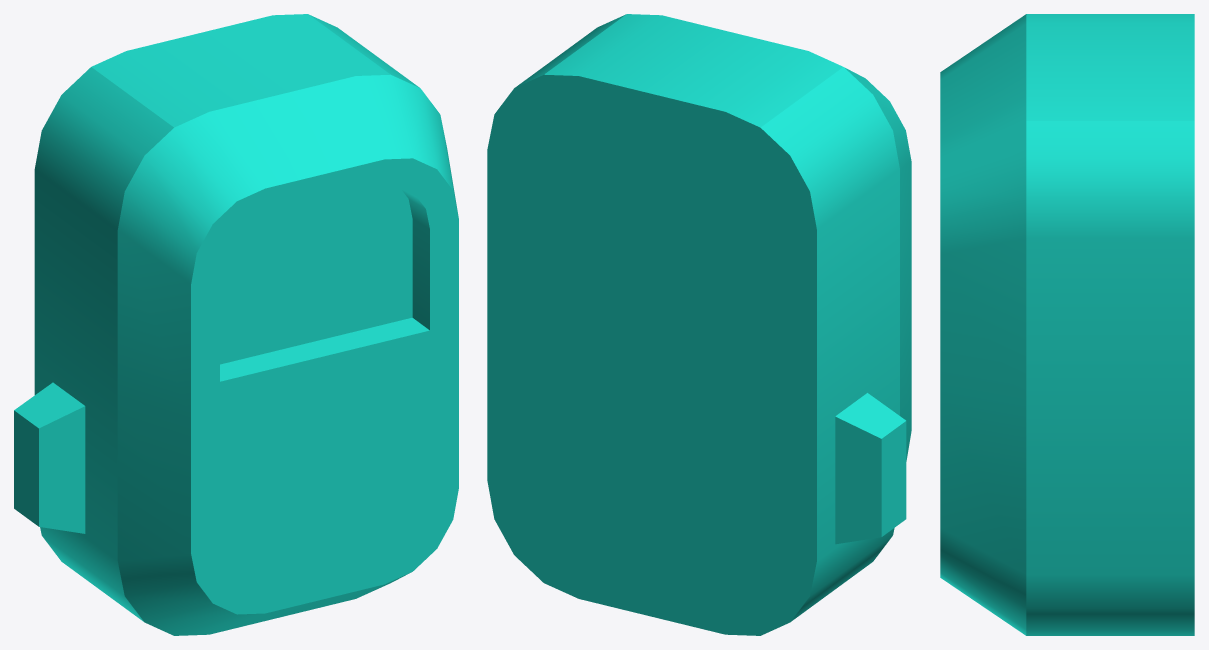
File: CableTower01_box2.fbx
The picture shows the model from 3 angles, left to right: view 1: azimuth 30°, elevation 25°; view 2: azimuth 150°, elevation 25°; view 3: azimuth 270°, elevation 25°; orthographic projection.
Parts seen in each view (by area): view 1: CableTower01_box2; view 2: CableTower01_box2; view 3: CableTower01_box2.
Part boxes in pixels (left/top/right/bottom): CableTower01_box2: left=14, top=14, right=458, bottom=635; CableTower01_box2: left=487, top=14, right=911, bottom=635; CableTower01_box2: left=940, top=14, right=1194, bottom=635.
Size of the model in its own units: 89.39 by 120 by 52.2.
